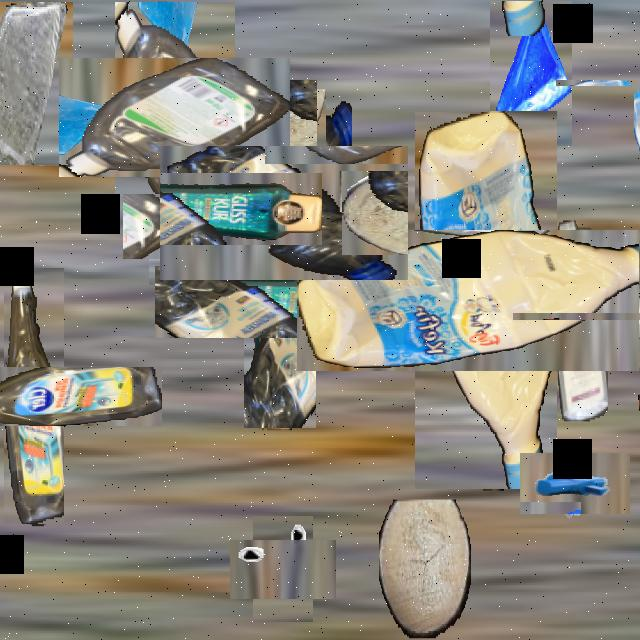glass: (490, 2, 572, 148), (0, 2, 73, 165), (136, 180, 228, 272), (594, 41, 640, 125)
metal: (532, 441, 618, 526), (242, 527, 324, 611)
plastic: (356, 171, 616, 430), (188, 118, 380, 309), (87, 30, 263, 205), (199, 221, 361, 383), (0, 317, 113, 475), (512, 255, 640, 384), (572, 252, 640, 380)
wood: (379, 500, 471, 638), (246, 85, 322, 160)
